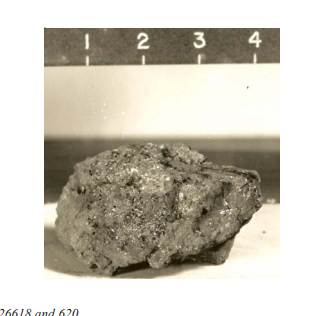Breccia: (54, 140, 274, 278), (127, 184, 204, 267)
